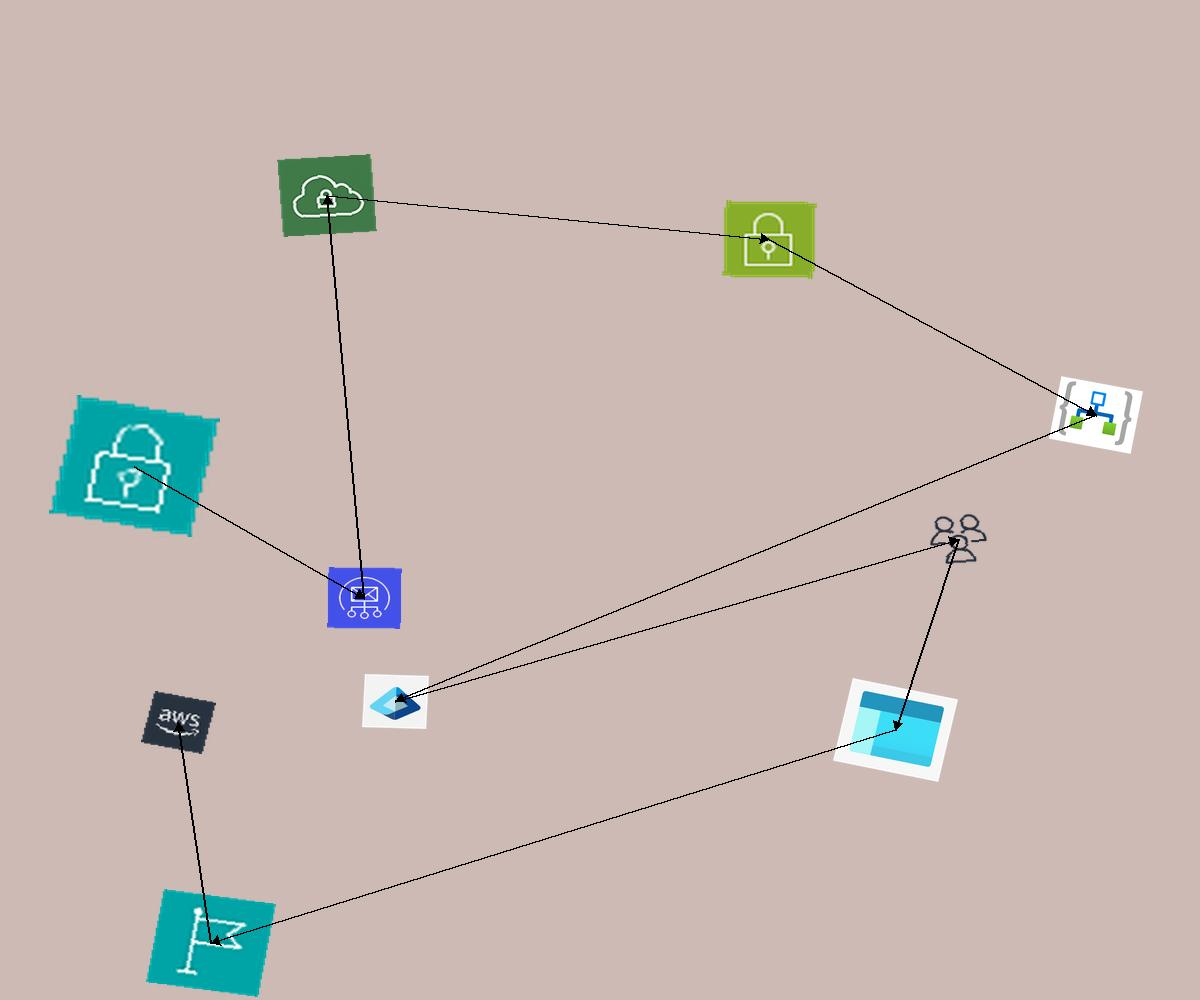AWS-Cloud-logo: (141, 691, 216, 754)
AWS-Private-subnet: (49, 395, 220, 537)
AWS-Private_vpc: (277, 154, 377, 237)
AWS-Public-subnet: (722, 200, 817, 279)
AWS-Region: (146, 889, 276, 997)
AWS-Res_Users: (924, 510, 993, 568)
AWS-Simple-Email-Service: (327, 567, 402, 629)
Azure_integration-204-Logic-Apps: (1049, 376, 1143, 454)
Azure_management-portal: (833, 678, 958, 782)
Azure_microsoft_entra: (362, 674, 429, 729)
